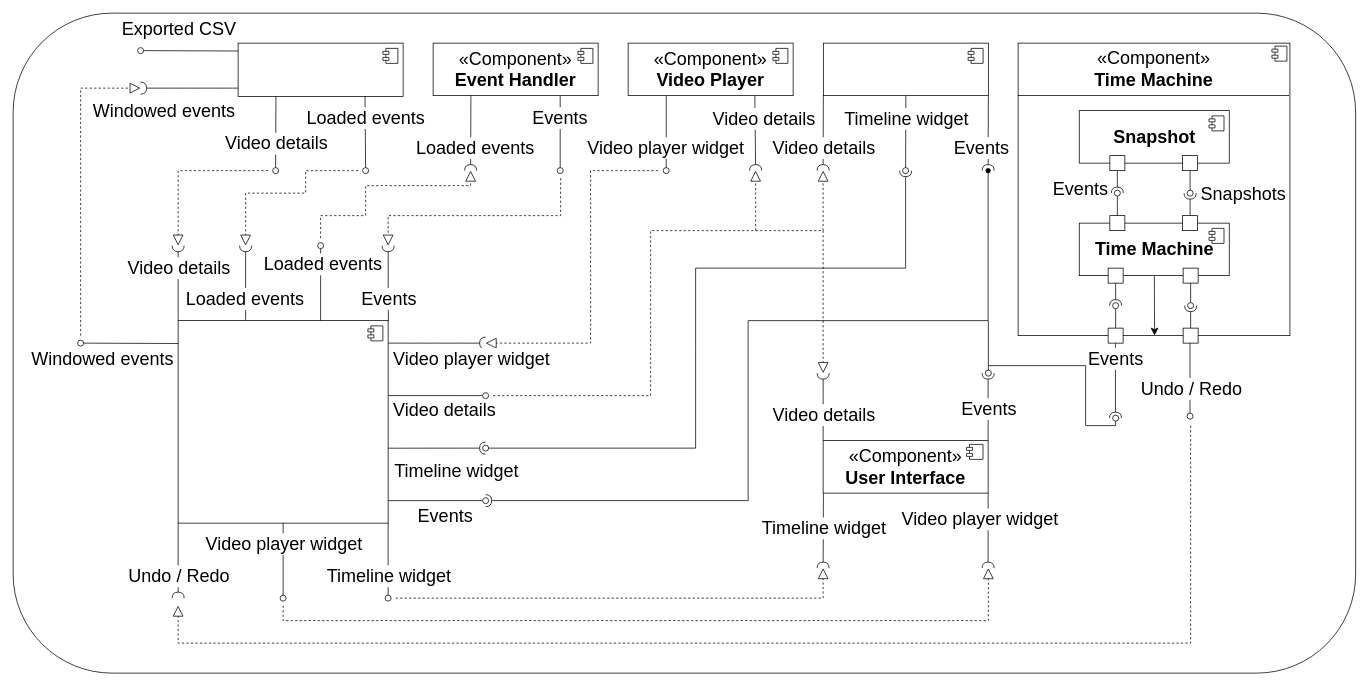
Image size: 1369x686. Some labels were removed from this diagram. Here are the shapes that lost their labels. From the top down, the centre of each, then its label:
point 320,69: «Component» Data Handler
point 905,69: «Component» Timeline Widget
point 282,421: «Component» Lebaling app
